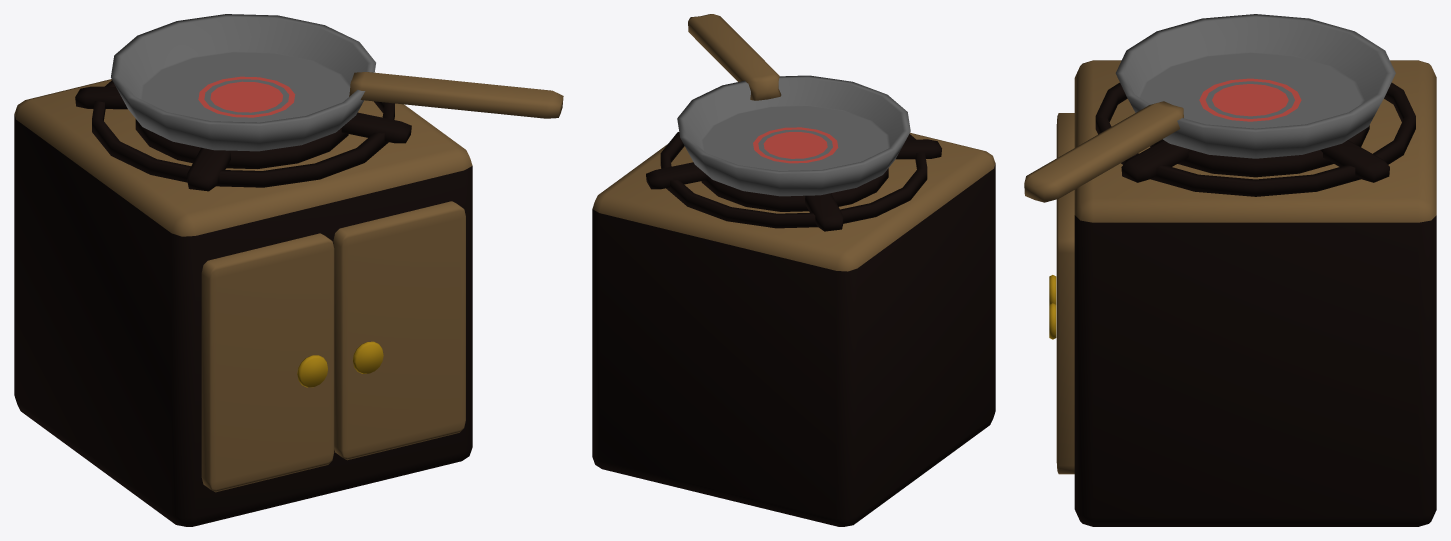
The model's file is Grill.fbx.
The picture shows the model from 3 angles, left to right: view 1: azimuth 30°, elevation 25°; view 2: azimuth 150°, elevation 25°; view 3: azimuth 270°, elevation 25°; orthographic projection. The views are drawn at different scales.
Parts seen in each view (by area): view 1: Grill, Grill.001, Cylinder.001, Cube, Circle.001, Cube.001, Circle, Circle.002; view 2: Grill, Cylinder.001, Circle.001, Cube, Cube.001, Circle; view 3: Grill, Cylinder.001, Cube, Grill.001, Circle.001, Cube.001, Circle, Circle.002.
Part boxes in pixels (x1,y1,x2,y2): Grill: (14, 79, 472, 526); Grill.001: (201, 201, 465, 492); Cylinder.001: (111, 14, 375, 151); Cube: (349, 72, 563, 118); Circle.001: (92, 80, 394, 187); Cube.001: (75, 86, 411, 191); Circle: (135, 119, 348, 168); Circle.002: (297, 341, 383, 387); Grill: (592, 132, 995, 526); Cylinder.001: (677, 75, 910, 196); Circle.001: (660, 132, 927, 228); Cube: (688, 14, 781, 100); Cube.001: (646, 139, 941, 231); Circle: (701, 168, 888, 211); Grill: (1074, 60, 1436, 526); Cylinder.001: (1115, 14, 1395, 158); Cube: (1024, 101, 1183, 202); Grill.001: (1056, 113, 1074, 474); Circle.001: (1095, 82, 1415, 196); Cube.001: (1121, 140, 1389, 182); Circle: (1150, 125, 1369, 177); Circle.002: (1049, 275, 1056, 339).
Size of the model in its own units: 123 by 119 by 114.
